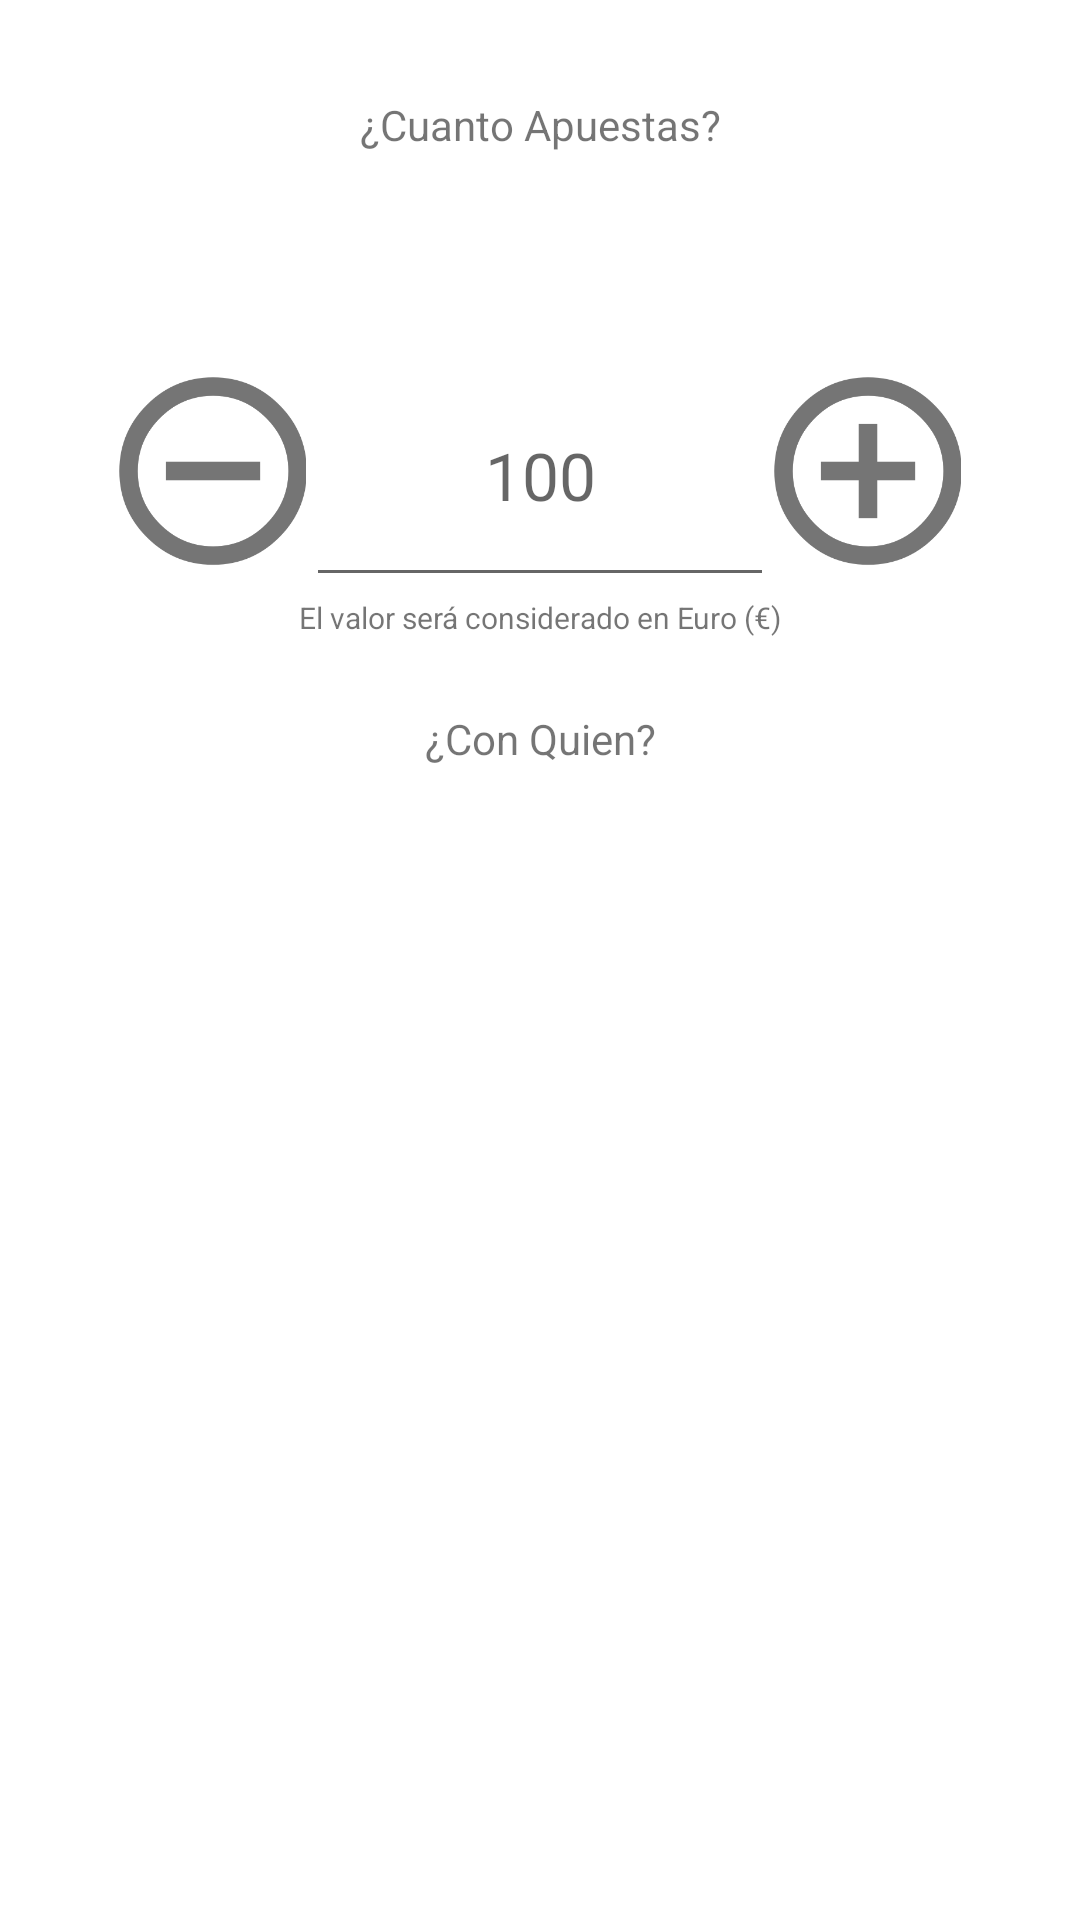

Named icons in this screenshot (1080×1920) and their bounding boxes, box(x1, y1, x2, y2):
minus: box(119, 377, 306, 565)
plus: box(774, 377, 961, 565)
